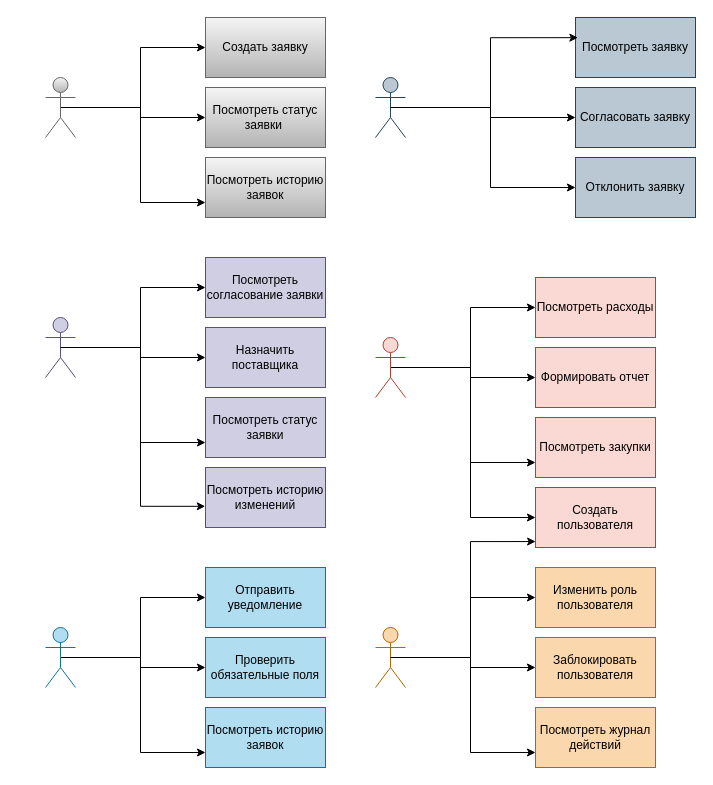
This 713x785 diagram has some shape labels left out. The centre of each missing label's shape, as x and y in pixels:
"Администратор" belongs at (60,657).
"Бухгалтер" belongs at (390,657).
"Ветеринар" belongs at (60,107).
"Менеджер по закупкам" belongs at (390,367).
"Руководитель" belongs at (60,347).
"Сотрудник по уходу" belongs at (390,107).
